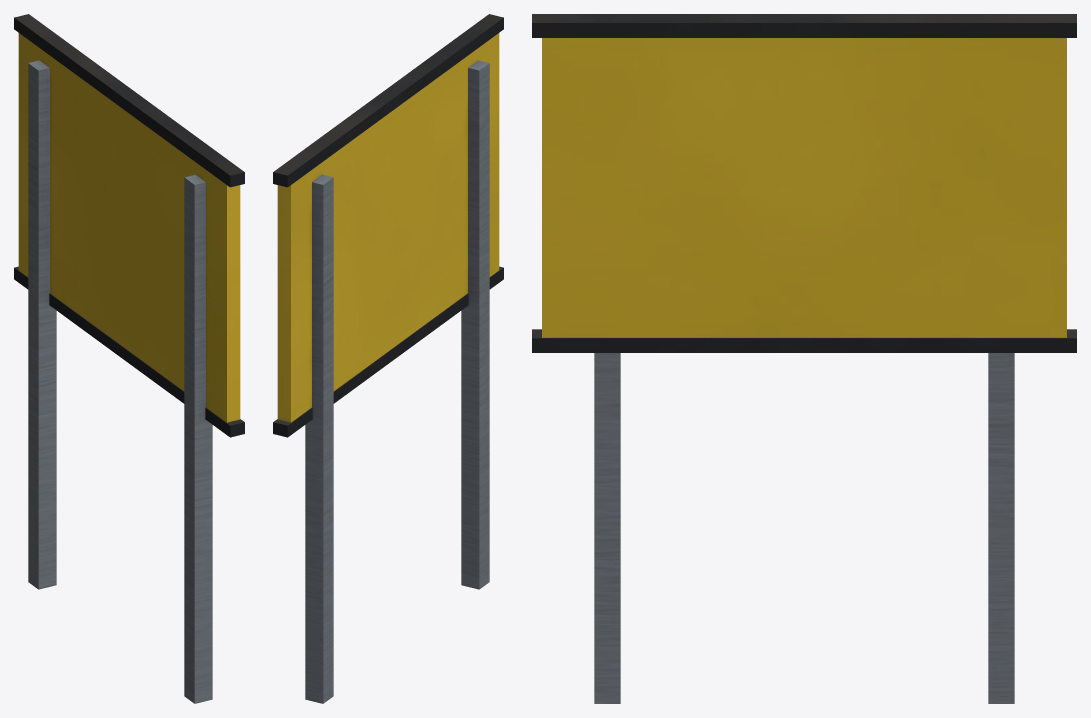
The model's file is skylt_skydd_tex.glb.
The picture shows the model from 3 angles, left to right: view 1: azimuth 30°, elevation 25°; view 2: azimuth 150°, elevation 25°; view 3: azimuth 270°, elevation 25°; orthographic projection. The views are drawn at different scales.
Visible parts, largest first — view 1: skylt_skydd; view 2: skylt_skydd; view 3: skylt_skydd.
Part boxes in pixels (box(x1,y1,x2,y2)): skylt_skydd: box(14, 14, 244, 703); skylt_skydd: box(273, 14, 503, 703); skylt_skydd: box(532, 14, 1076, 703).
Size of the model in its own units: 0.1125 by 2.3 by 1.66.
3 materials, 3 textured.
